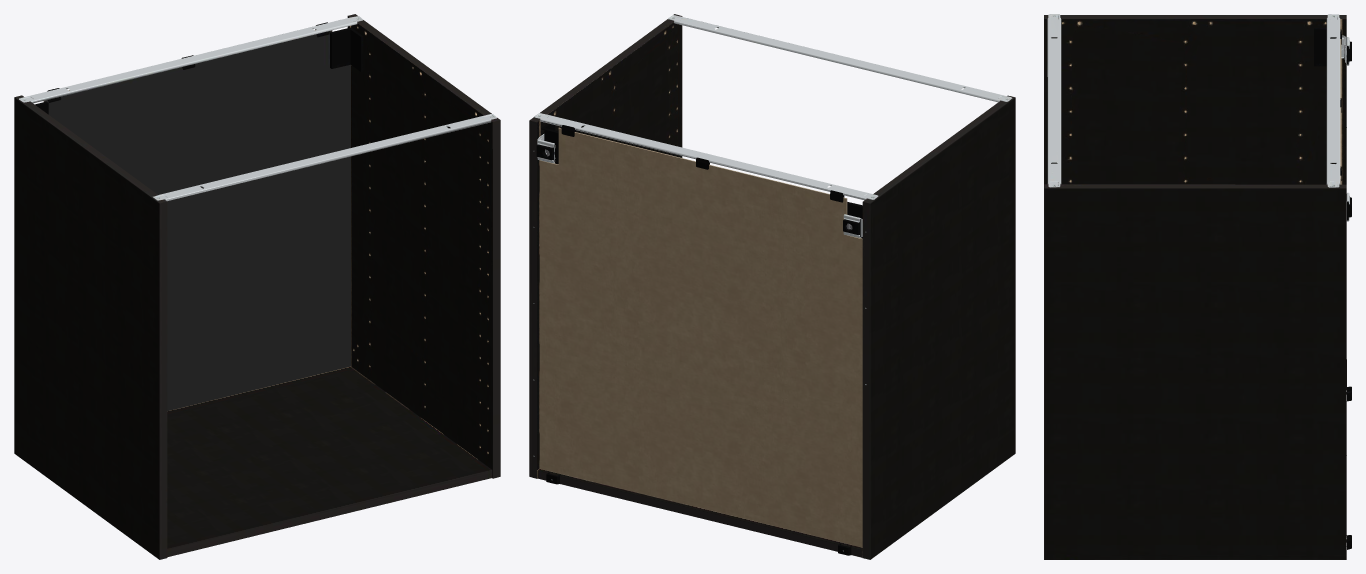
Rendered from metod_szafka_stojaca_20591704.glb.
3 renders of one model, left to right at view 1: azimuth 30°, elevation 25°; view 2: azimuth 150°, elevation 25°; view 3: azimuth 270°, elevation 25°, orthographic. The views are drawn at different scales.
Parts seen in each view (by area): view 1: metod_szafka_stojaca_20591704; view 2: metod_szafka_stojaca_20591704; view 3: metod_szafka_stojaca_20591704.
Part boxes in pixels (<box>): metod_szafka_stojaca_20591704: <box>14,14,500,559</box>; metod_szafka_stojaca_20591704: <box>529,14,1015,559</box>; metod_szafka_stojaca_20591704: <box>1044,14,1351,559</box>.
Bounding box in the file's own units: 0.8 × 0.8022 × 0.6001.
Materials: 1 (1 with a texture image).
